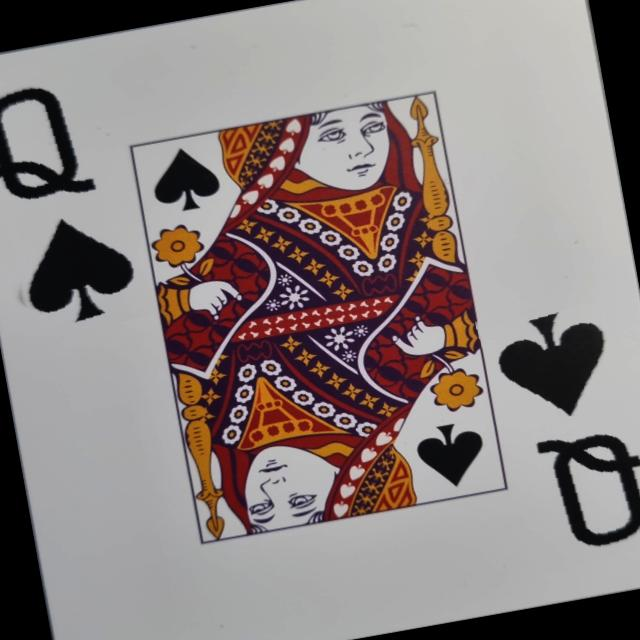Qs: (479, 282, 640, 574), (0, 61, 151, 349)
